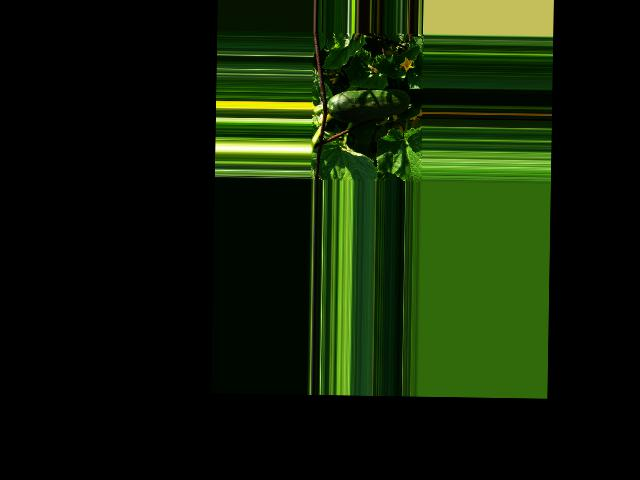cucumber: (327, 88, 410, 124)
